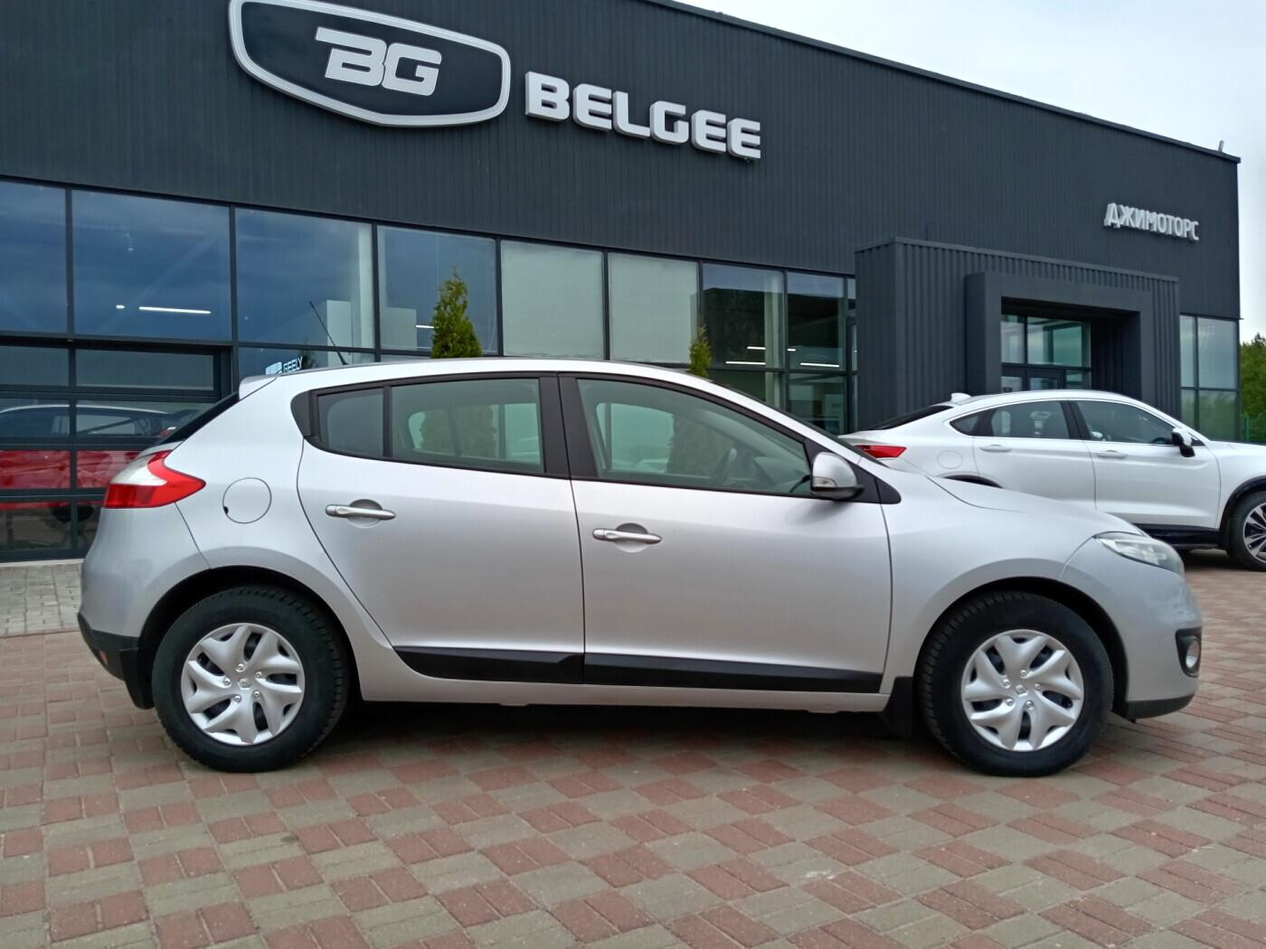Megane_2012-2014: (80, 343, 1207, 780)
